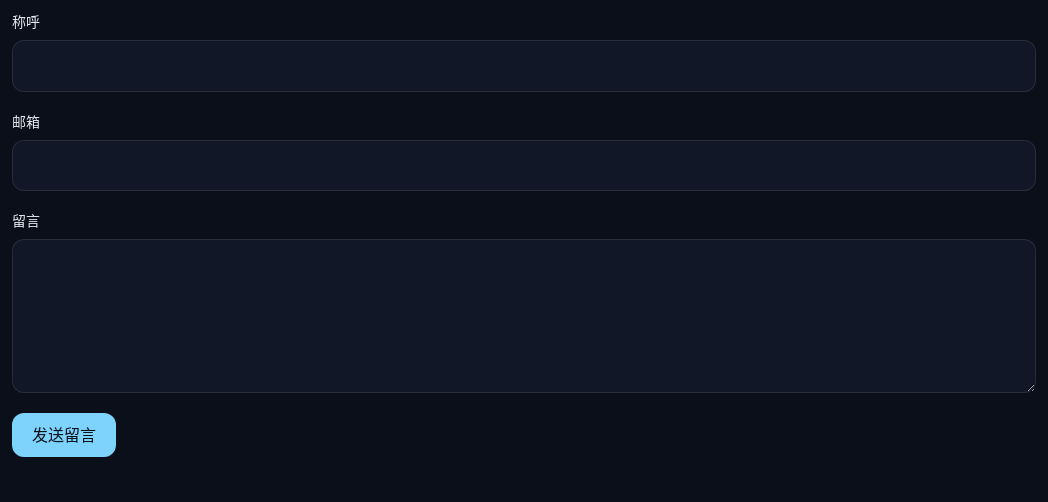
Scenario: ContactForm › 接口返回字段级错误时把它们回填到对应字段
Type "张三" into the field labelled "称呼".
click(524, 66); type("张三")  # box [12, 40, 1036, 92]
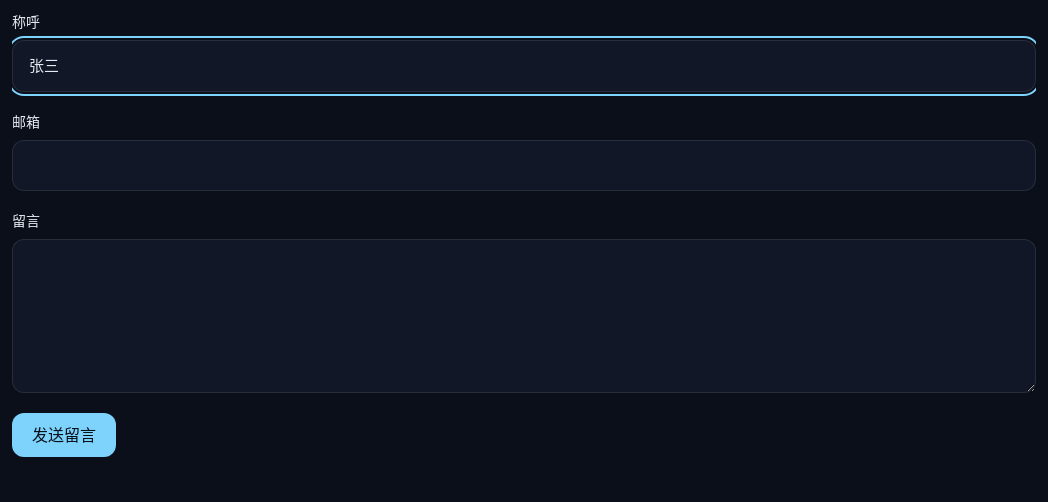
Type "zhangsan@example.com" into the field labelled "邮箱".
click(524, 165); type("zhangsan@example.com")  # box [12, 140, 1036, 191]
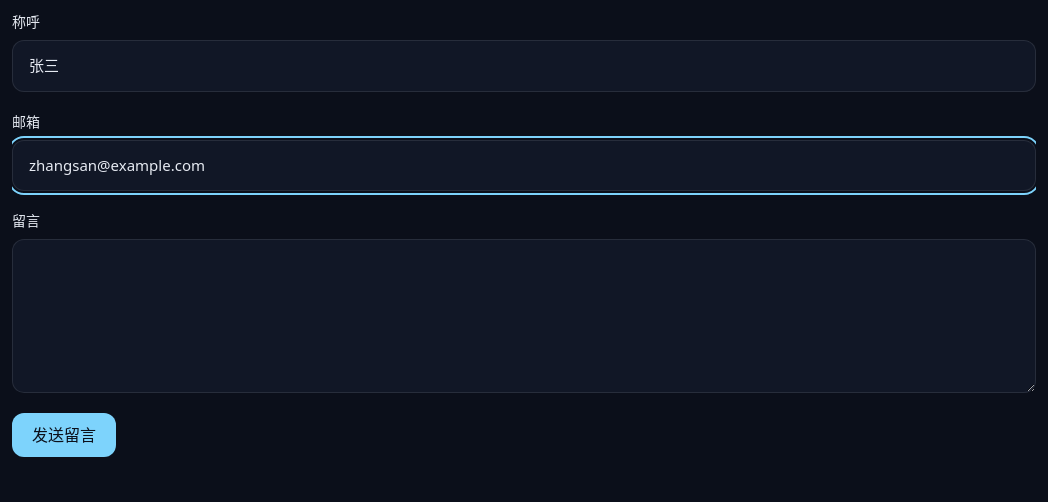
Type "这是一条长度足够的测试留言内容。" into the text box labelled "留言".
click(524, 316); type("这是一条长度足够的测试留言内容。")  # box [12, 239, 1036, 392]
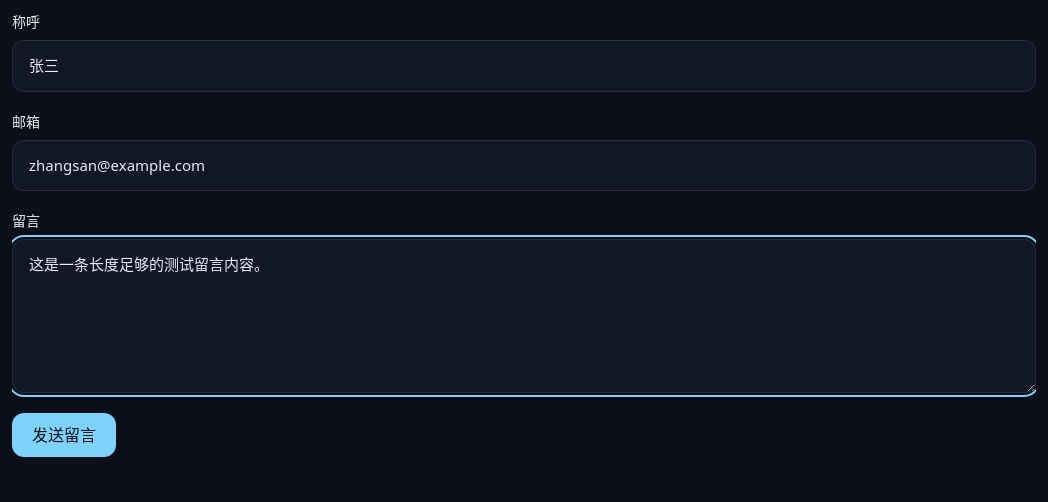
Click the button "发送留言".
click(64, 434)  # box [12, 412, 116, 456]
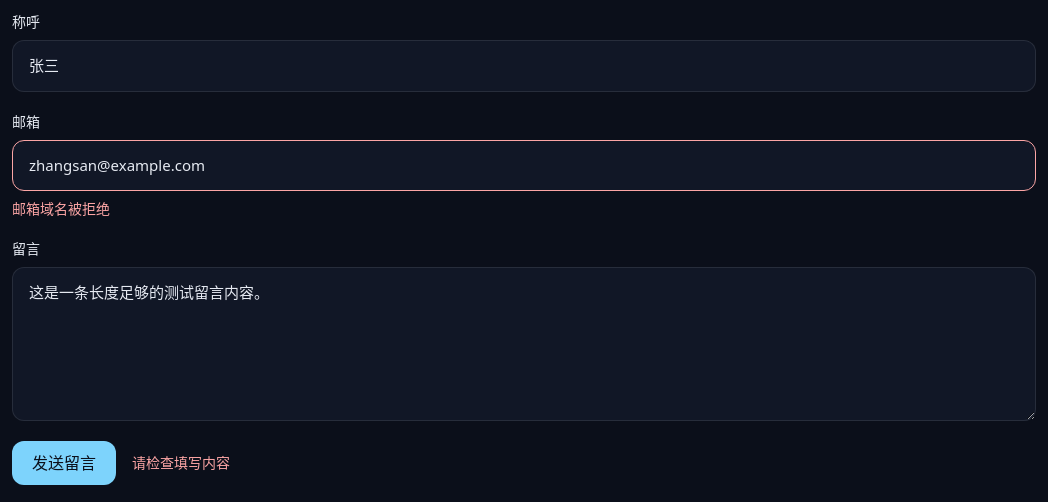
Expected: the text "邮箱域名被拒绝" is shown, [12, 199, 110, 218]
